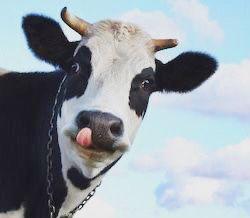cow: (112, 91, 250, 217)
